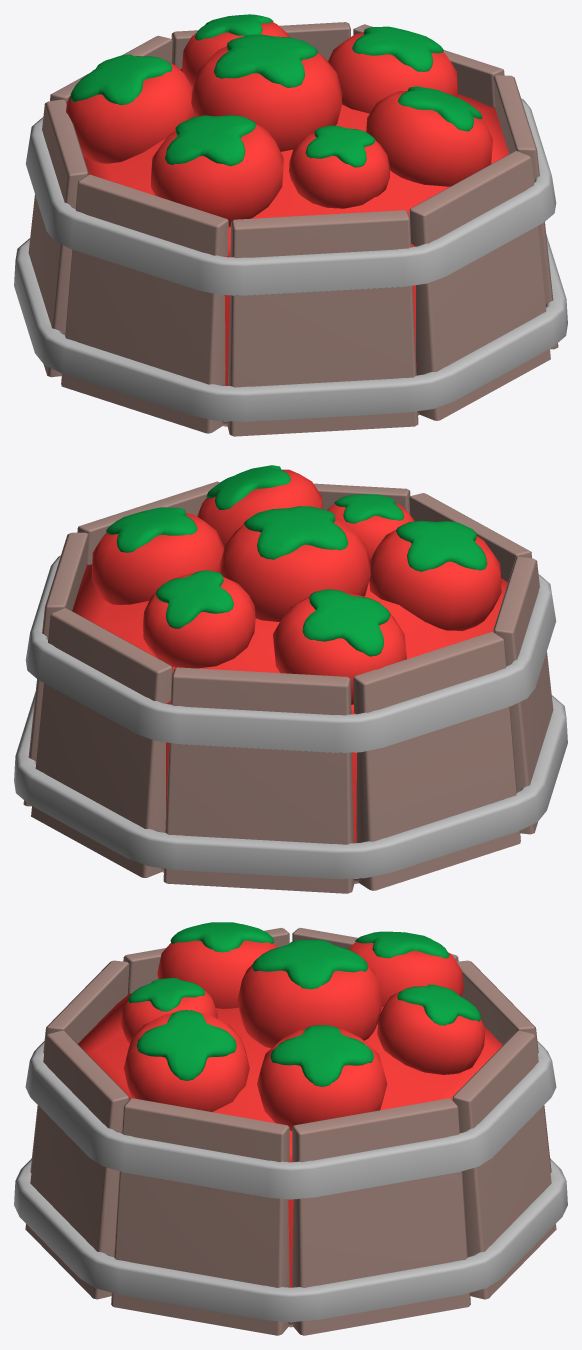
The model's file is Farm_3_Bucket_with_Tomatos_1.glb.
The picture shows the model from 3 angles, top to bottom: view 1: azimuth 30°, elevation 25°; view 2: azimuth 150°, elevation 25°; view 3: azimuth 270°, elevation 25°; orthographic projection. The views are drawn at different scales.
Visible parts, largest first — view 1: Farm_3_Bucket_with_Tomatos_1; view 2: Farm_3_Bucket_with_Tomatos_1; view 3: Farm_3_Bucket_with_Tomatos_1.
Part boxes in pixels (<box>): Farm_3_Bucket_with_Tomatos_1: <box>14,14,567,436</box>; Farm_3_Bucket_with_Tomatos_1: <box>14,465,567,893</box>; Farm_3_Bucket_with_Tomatos_1: <box>14,922,567,1335</box>.
Bounding box in the file's own units: 1.37 × 0.7276 × 1.37.
Materials: 1 (1 with a texture image).
